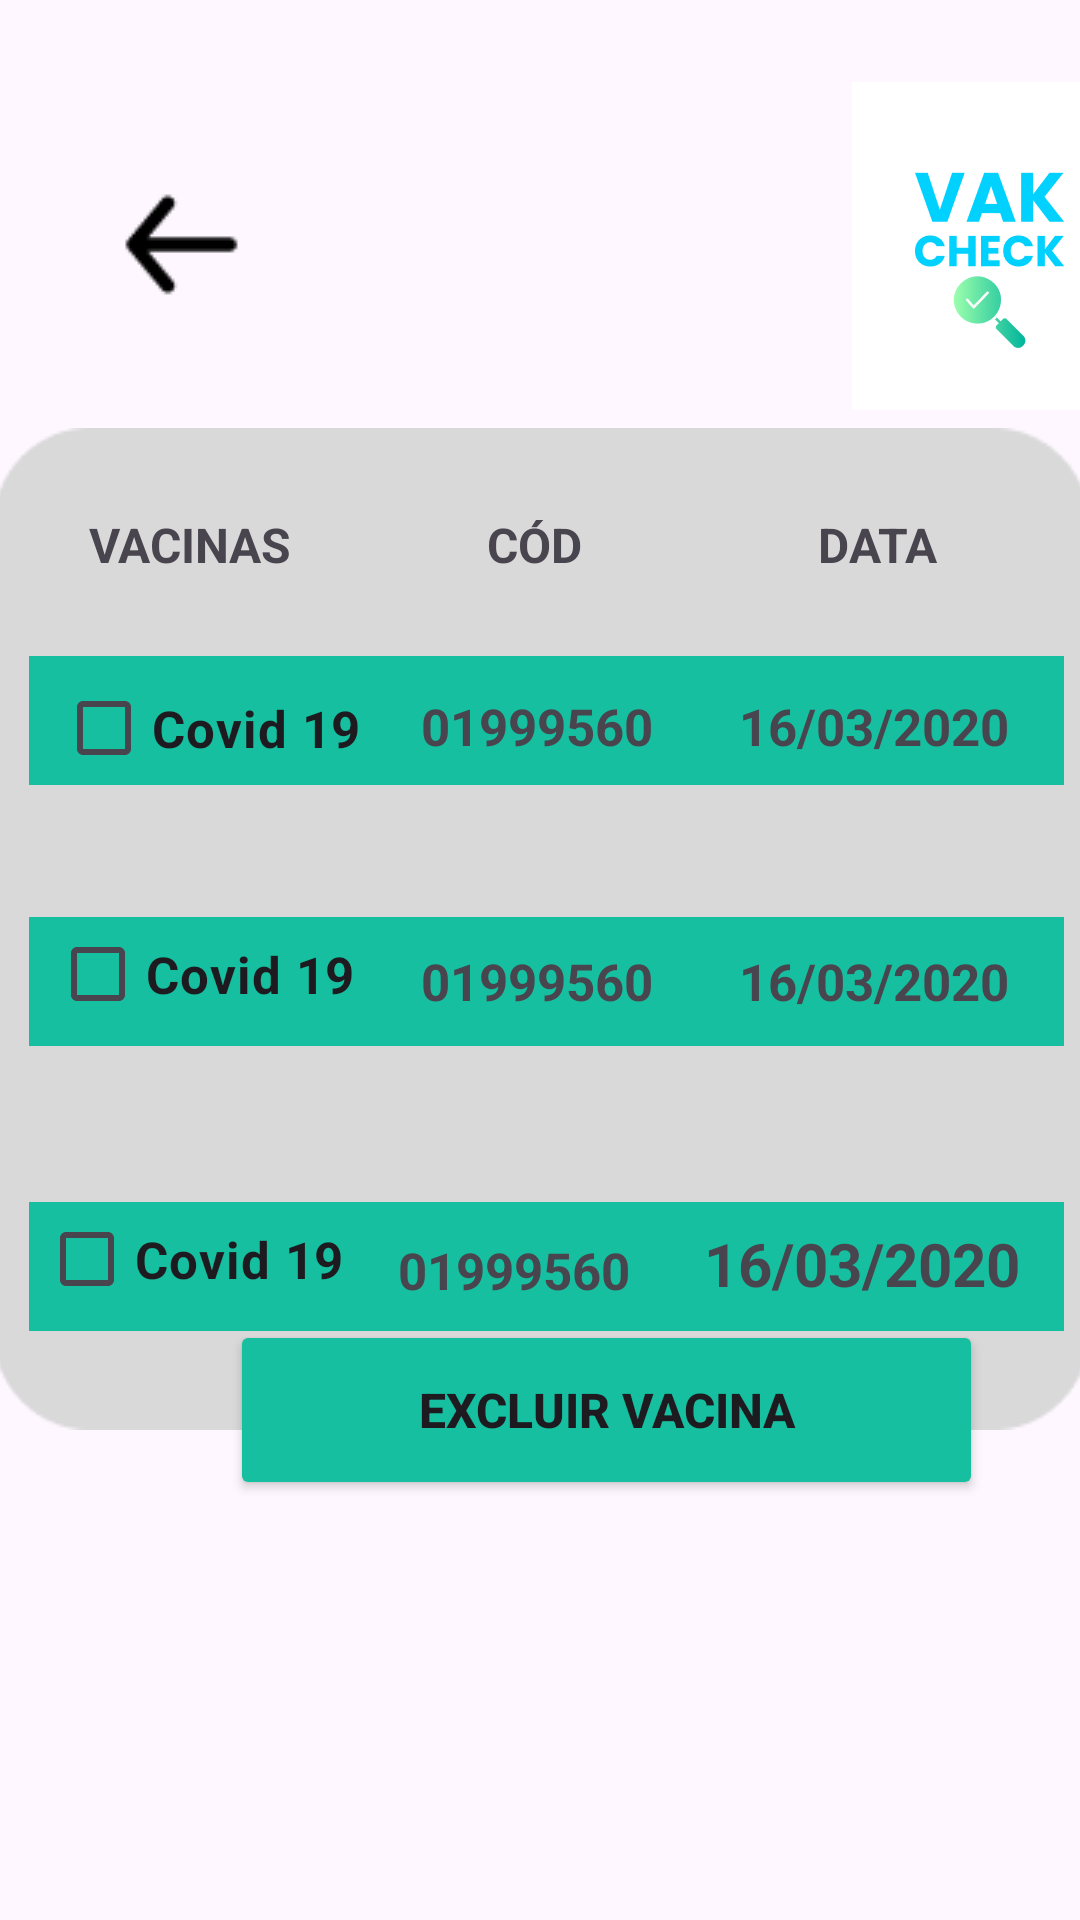

Point at icon controls on the screen. Image size 1080×1920, points as (x=x, y=y).
voltar: (x=181, y=244)
